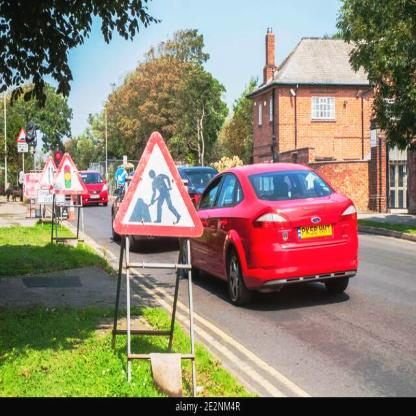Keep left: (116, 163, 130, 184)
